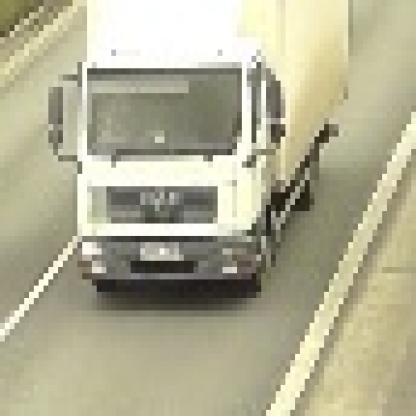truck: (45, 1, 345, 293)
